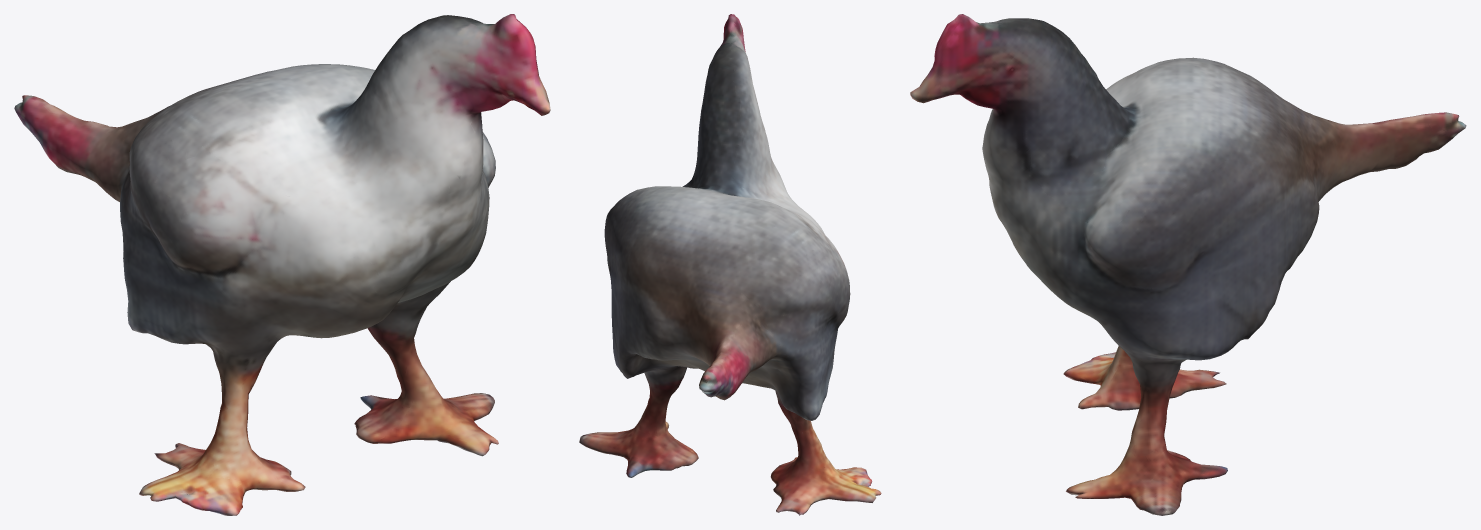
Rendered from joven.glb.
3 views of the same model, side by side, from view 1: azimuth 30°, elevation 25°; view 2: azimuth 150°, elevation 25°; view 3: azimuth 270°, elevation 25° (orthographic). The views are drawn at different scales.
Visible parts, largest first — view 1: mesh; view 2: mesh; view 3: mesh.
Boxes of the visible parts, left/top/right/bottom form: mesh: left=14, top=14, right=550, bottom=515; mesh: left=579, top=14, right=881, bottom=515; mesh: left=910, top=14, right=1466, bottom=515.
Size of the model in its own units: 1.1 by 1.42 by 1.53.
Materials: 1 (1 with a texture image).
